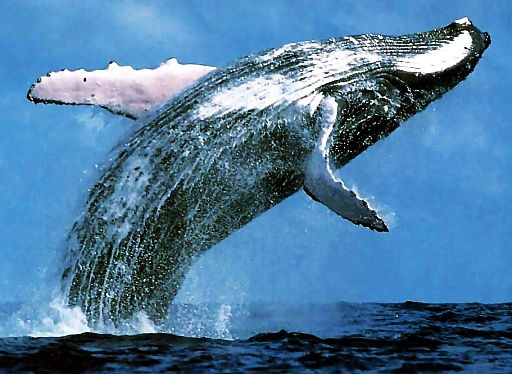humpback: (42, 17, 493, 310)
